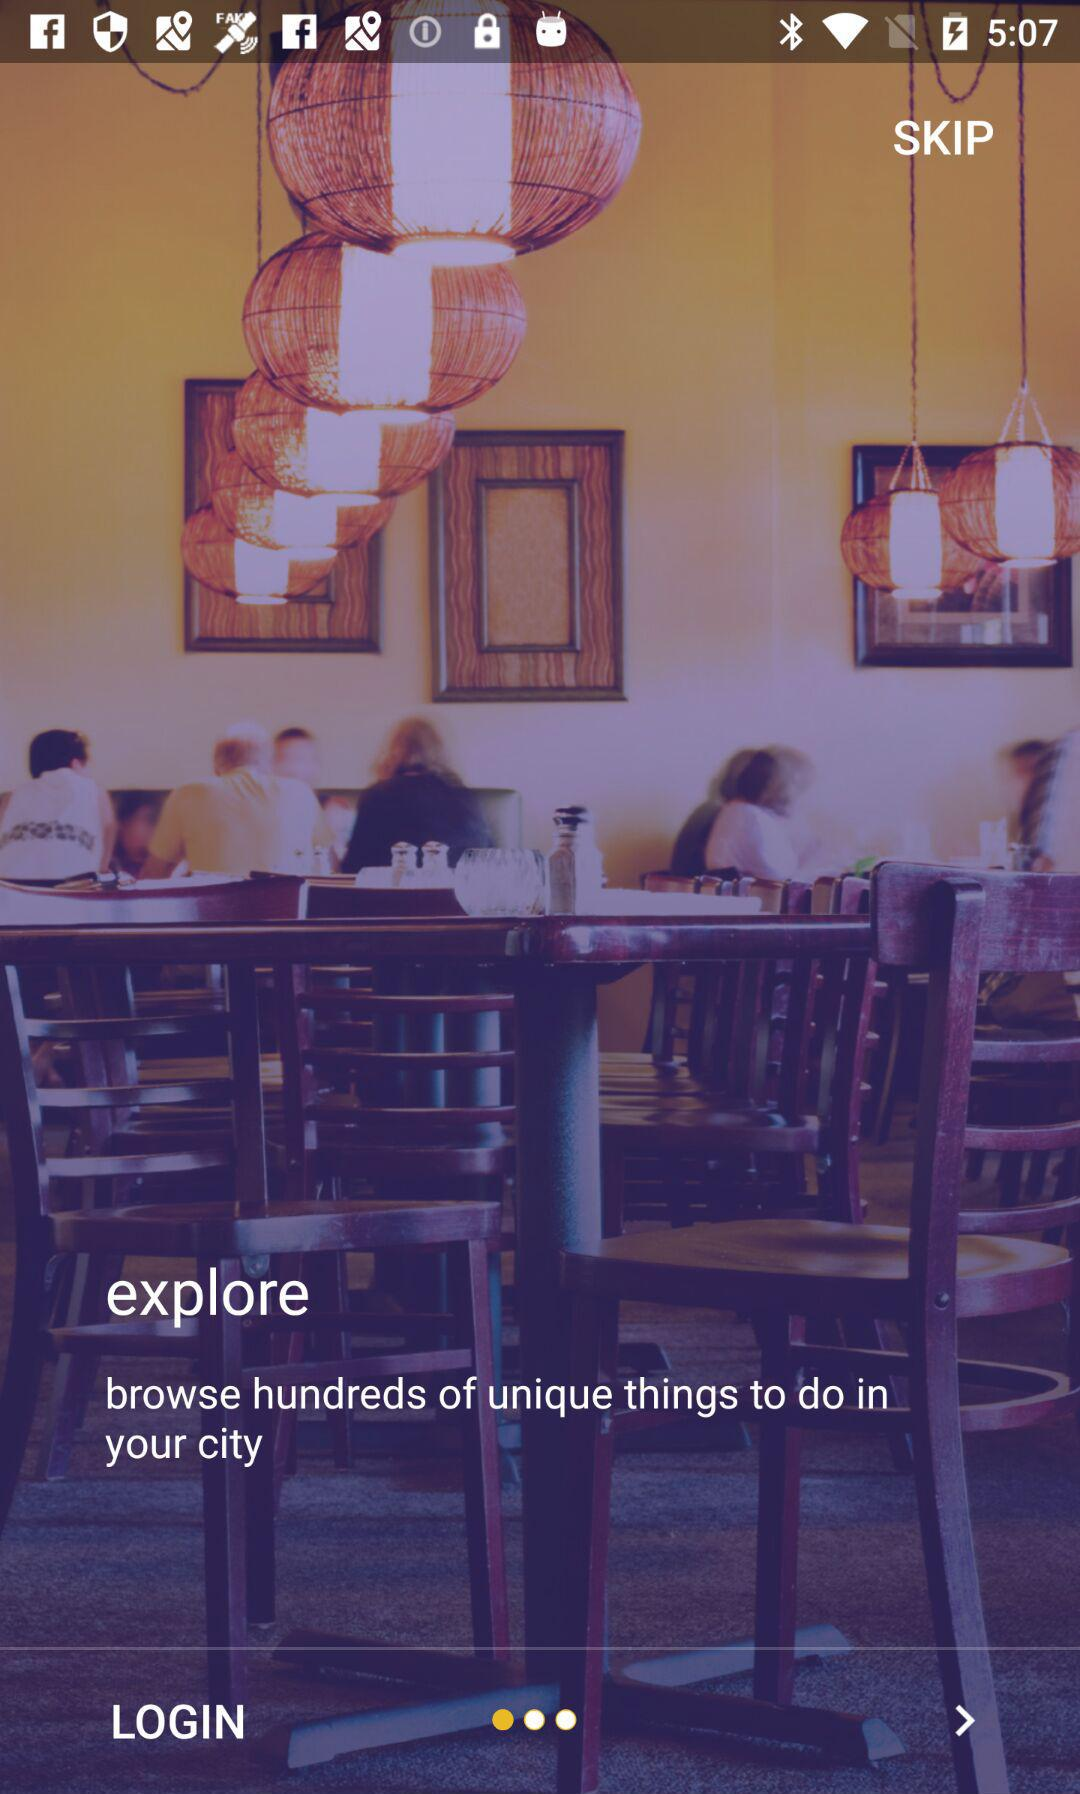BackgroundImage: (1, 64, 1079, 1794)
Icon: (954, 1704, 976, 1738)
PageIndicator: (491, 1707, 579, 1732)
Text: (105, 1376, 888, 1469), (108, 1266, 310, 1329), (113, 1704, 245, 1740), (893, 120, 994, 158)
UpperTaskBar: (1, 1, 1080, 64)
